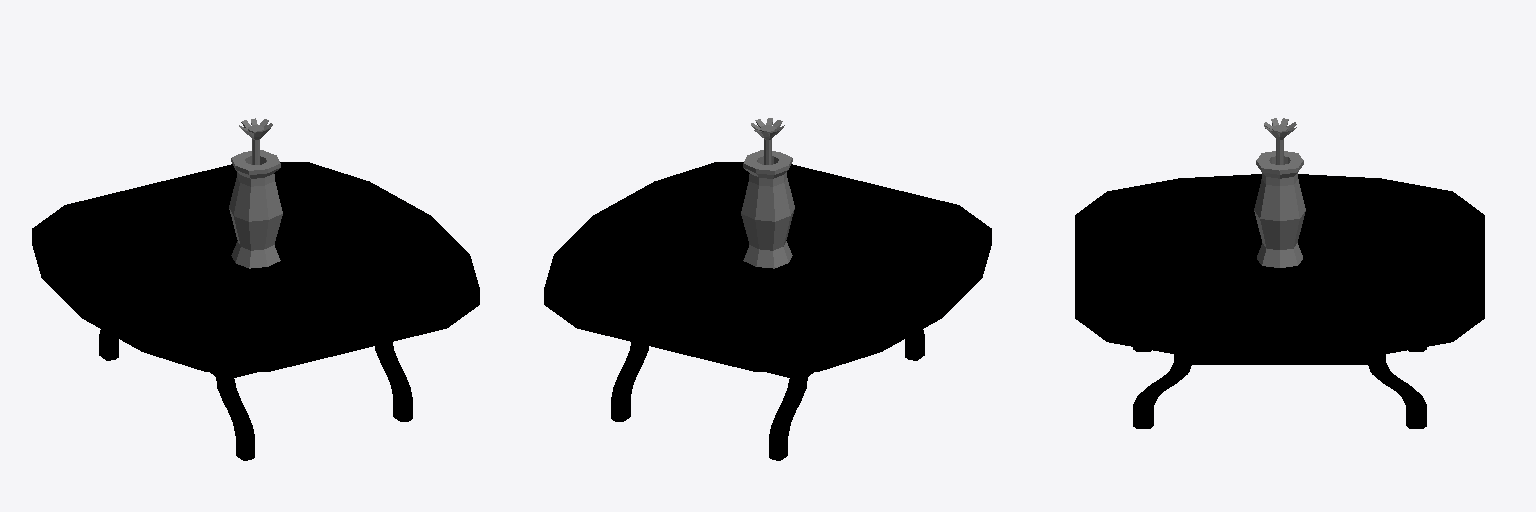
File: TableRemodel_SubstancePaint.obj
3 renders of one model, left to right at view 1: azimuth 30°, elevation 25°; view 2: azimuth 150°, elevation 25°; view 3: azimuth 270°, elevation 25°, orthographic.
Parts seen in each view (by area): view 1: pCubeShape1; view 2: pCubeShape1; view 3: pCubeShape1.
Part boxes in pixels (x1,y1,x2,y2): pCubeShape1: (32,118,479,460); pCubeShape1: (544,118,991,460); pCubeShape1: (1075,118,1484,428).
Size of the model in its own units: 8.88 by 6.36 by 9.